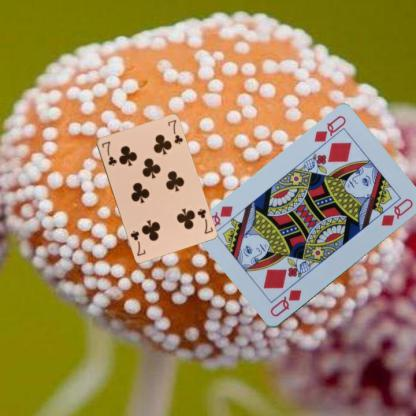7c: (194, 206, 214, 235), (99, 139, 118, 167)
Qd: (312, 113, 348, 152), (268, 287, 302, 319)
